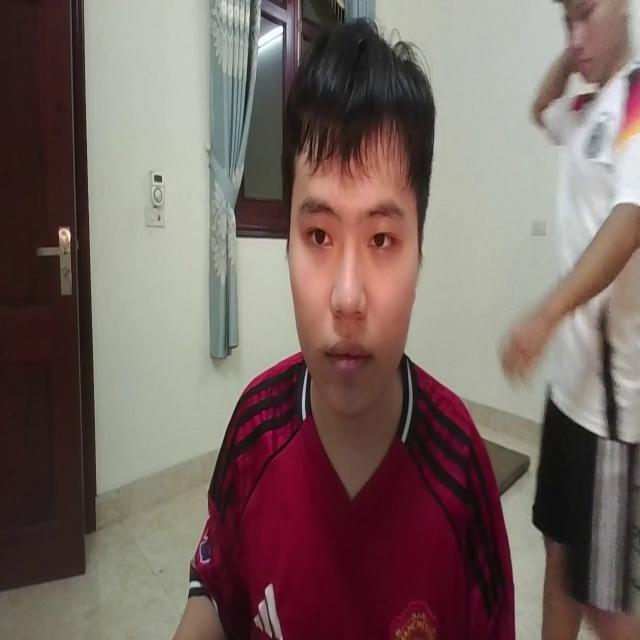extra_person: (502, 0, 640, 640)
student: (176, 8, 524, 640)
